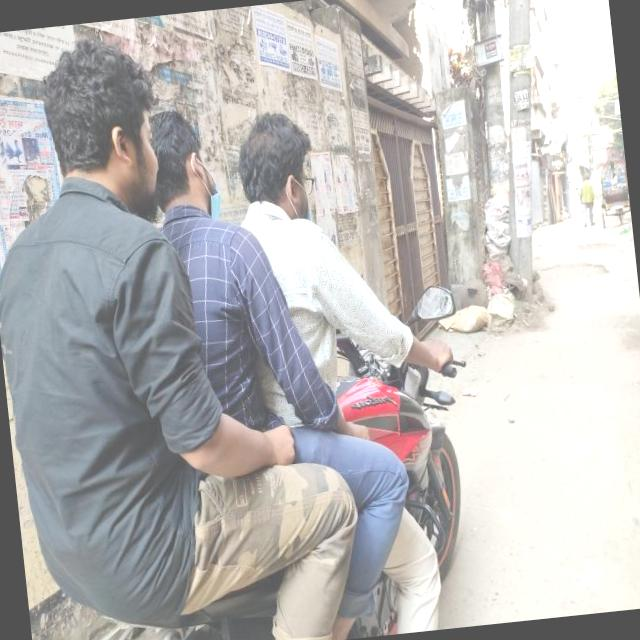motorcycle: (312, 288, 500, 606)
person: (0, 26, 222, 640), (169, 98, 408, 640), (83, 91, 307, 640)
